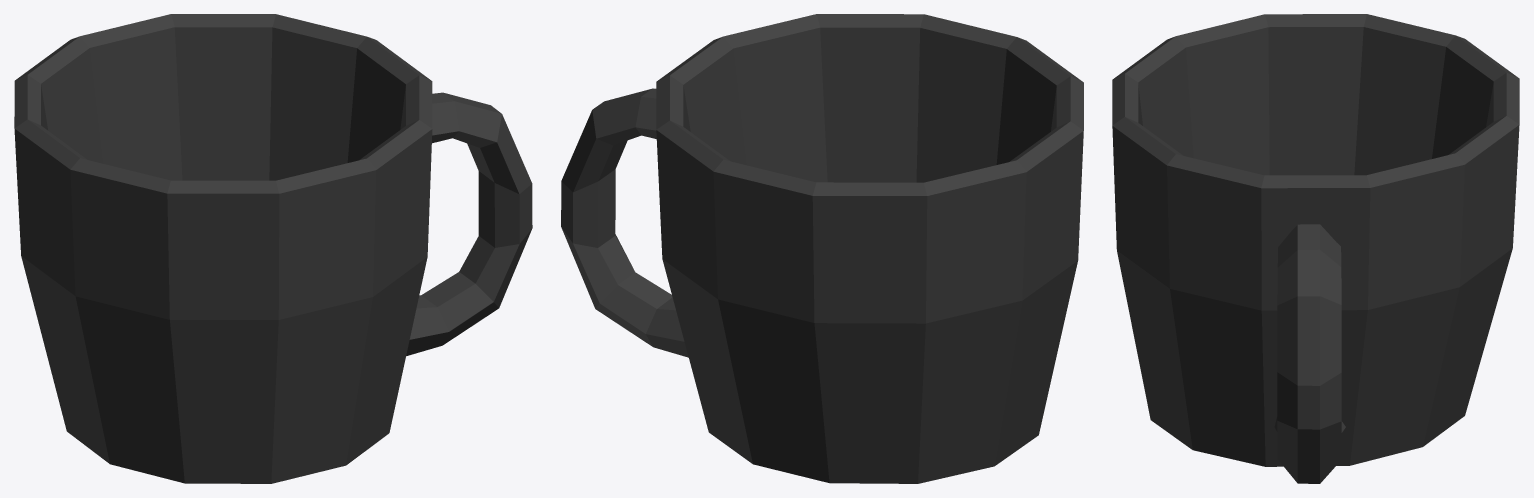
File: MugV2.fbx
The picture shows the model from 3 angles, left to right: view 1: azimuth 30°, elevation 25°; view 2: azimuth 150°, elevation 25°; view 3: azimuth 270°, elevation 25°; orthographic projection. The views are drawn at different scales.
Visible parts, largest first — view 1: MugV2; view 2: MugV2; view 3: MugV2.
Part boxes in pixels (x1=…): MugV2: x1=14, y1=14, x2=532, y2=483; MugV2: x1=561, y1=14, x2=1083, y2=483; MugV2: x1=1112, y1=14, x2=1519, y2=483.
Size of the model in its own units: 8.46 by 5.31 by 6.37.
